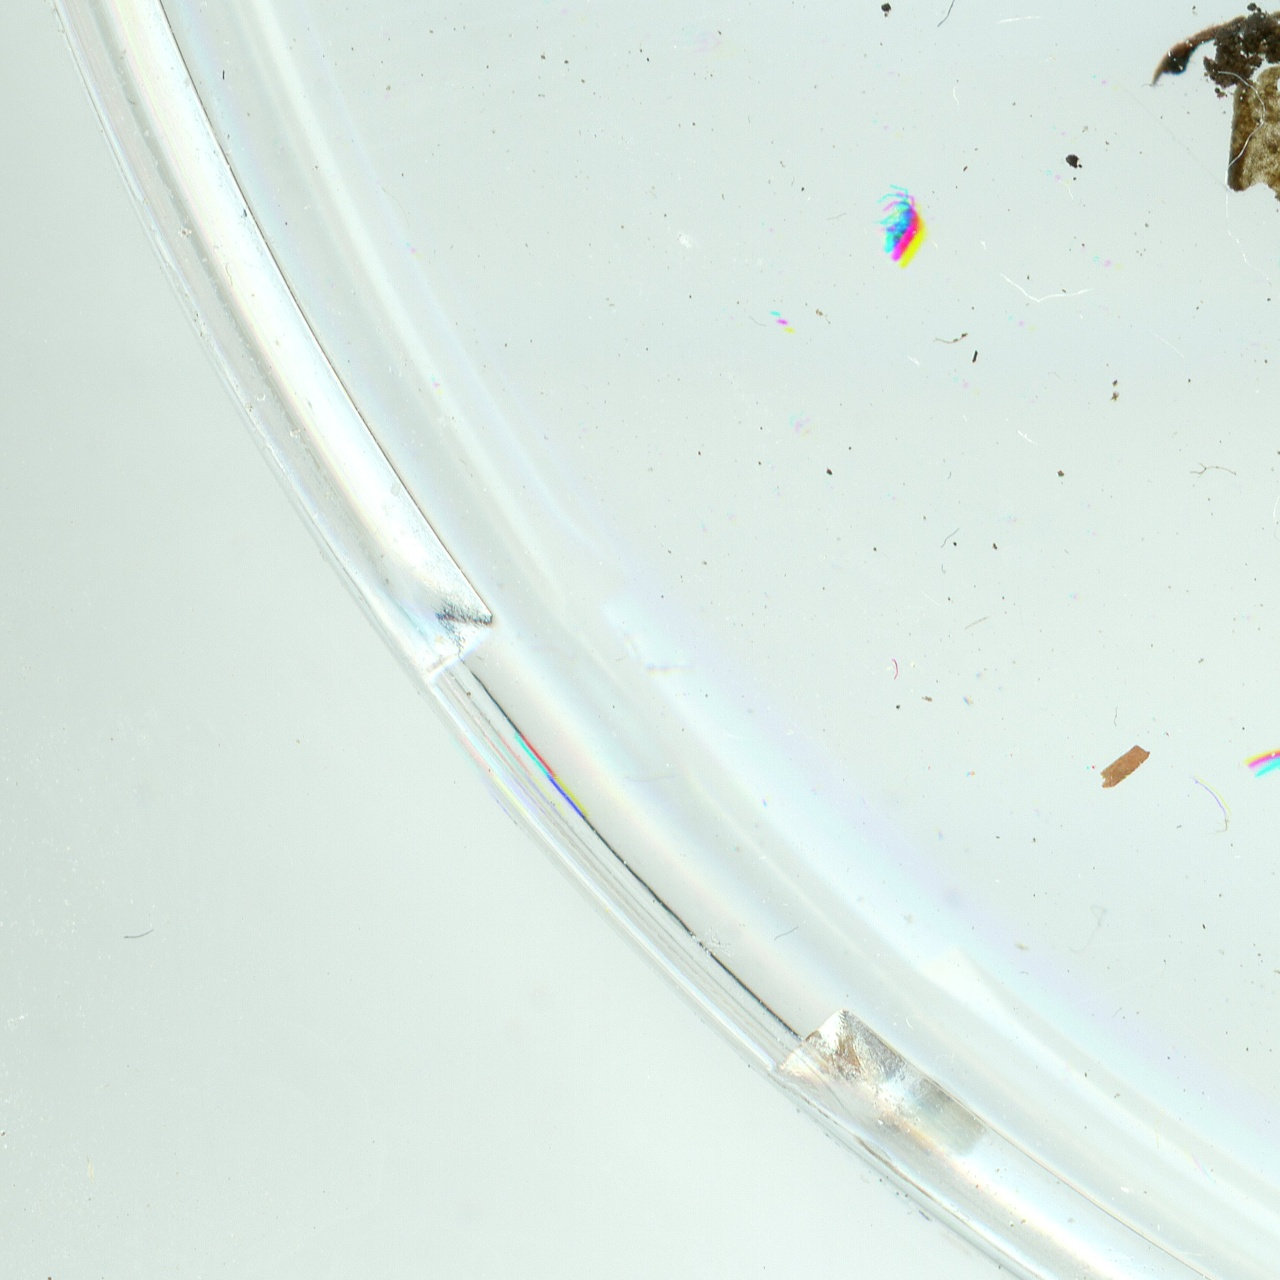arthropod: (873, 179, 933, 271)
